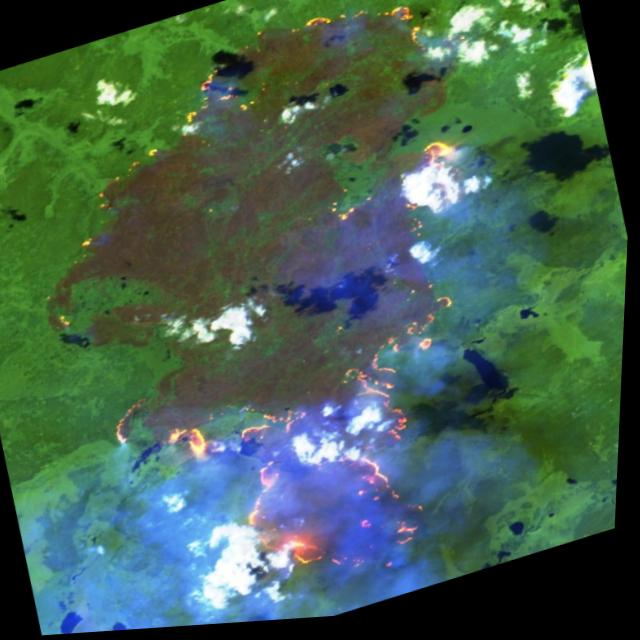fire: (19, 0, 572, 638)
